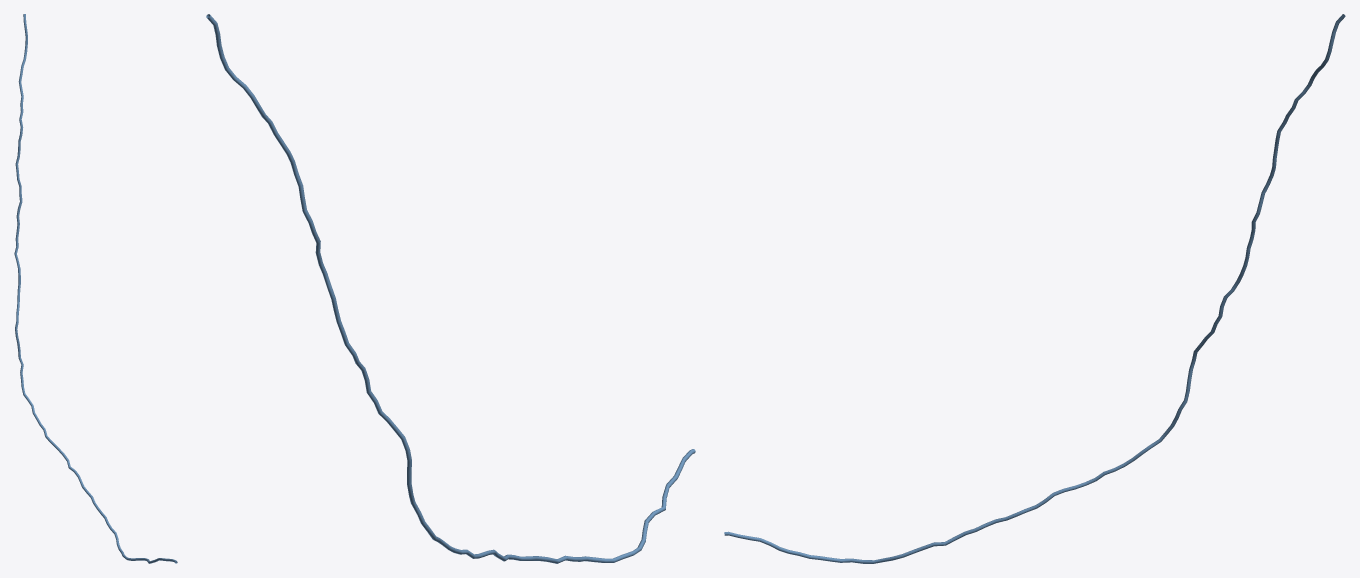
File: sweep206.fbx
The picture shows the model from 3 angles, left to right: view 1: azimuth 30°, elevation 25°; view 2: azimuth 150°, elevation 25°; view 3: azimuth 270°, elevation 25°; orthographic projection. The views are drawn at different scales.
Parts seen in each view (by area): view 1: sweep206; view 2: sweep206; view 3: sweep206.
Part boxes in pixels (<box>): sweep206: <box>14,14,177,563</box>; sweep206: <box>206,14,695,563</box>; sweep206: <box>724,14,1345,563</box>.
Bounding box in the file's own units: 0.6071 × 3.36 × 3.17.
